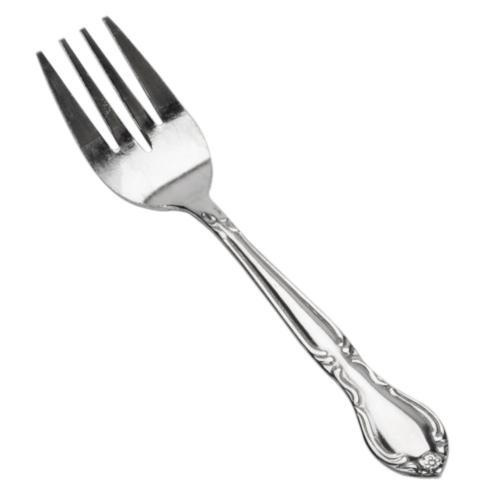Fork: (36, 16, 449, 478)
